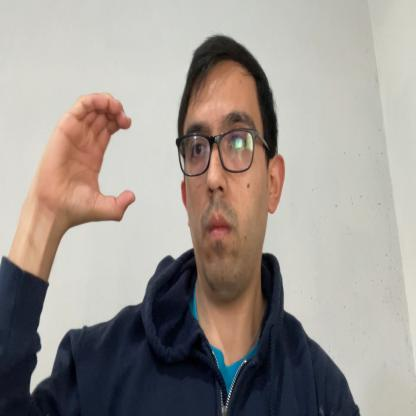C: (48, 90, 136, 222)
